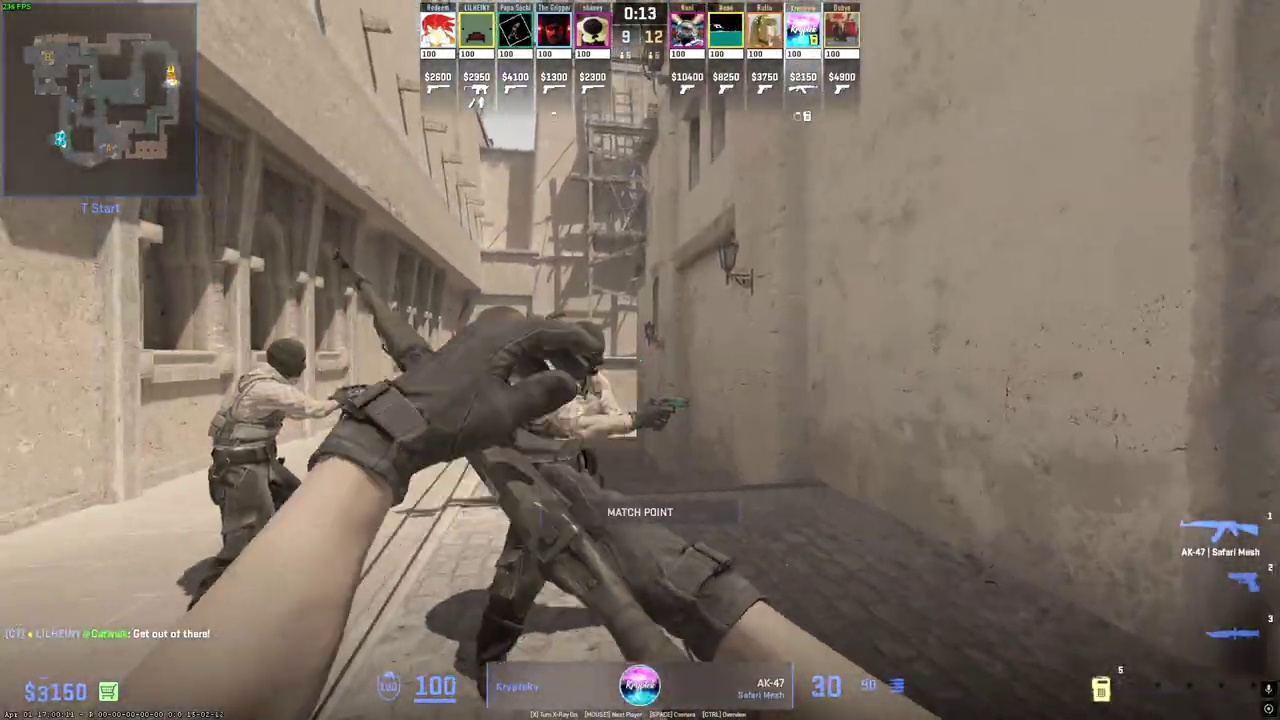Terrorist: (476, 320, 645, 668), (208, 338, 318, 588)
